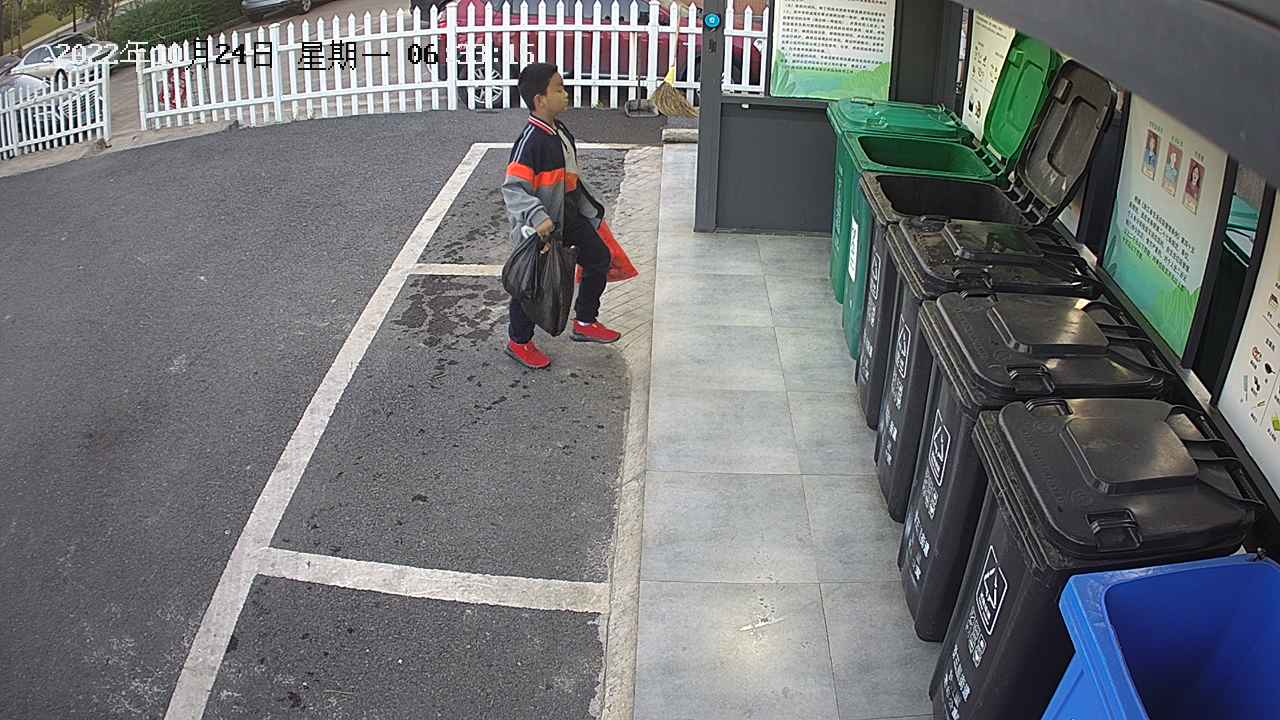garbage-bag: (499, 226, 580, 340)
person: (491, 54, 627, 374)
